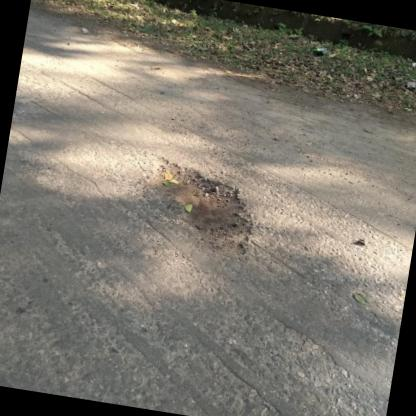pothole: (134, 151, 266, 260)
